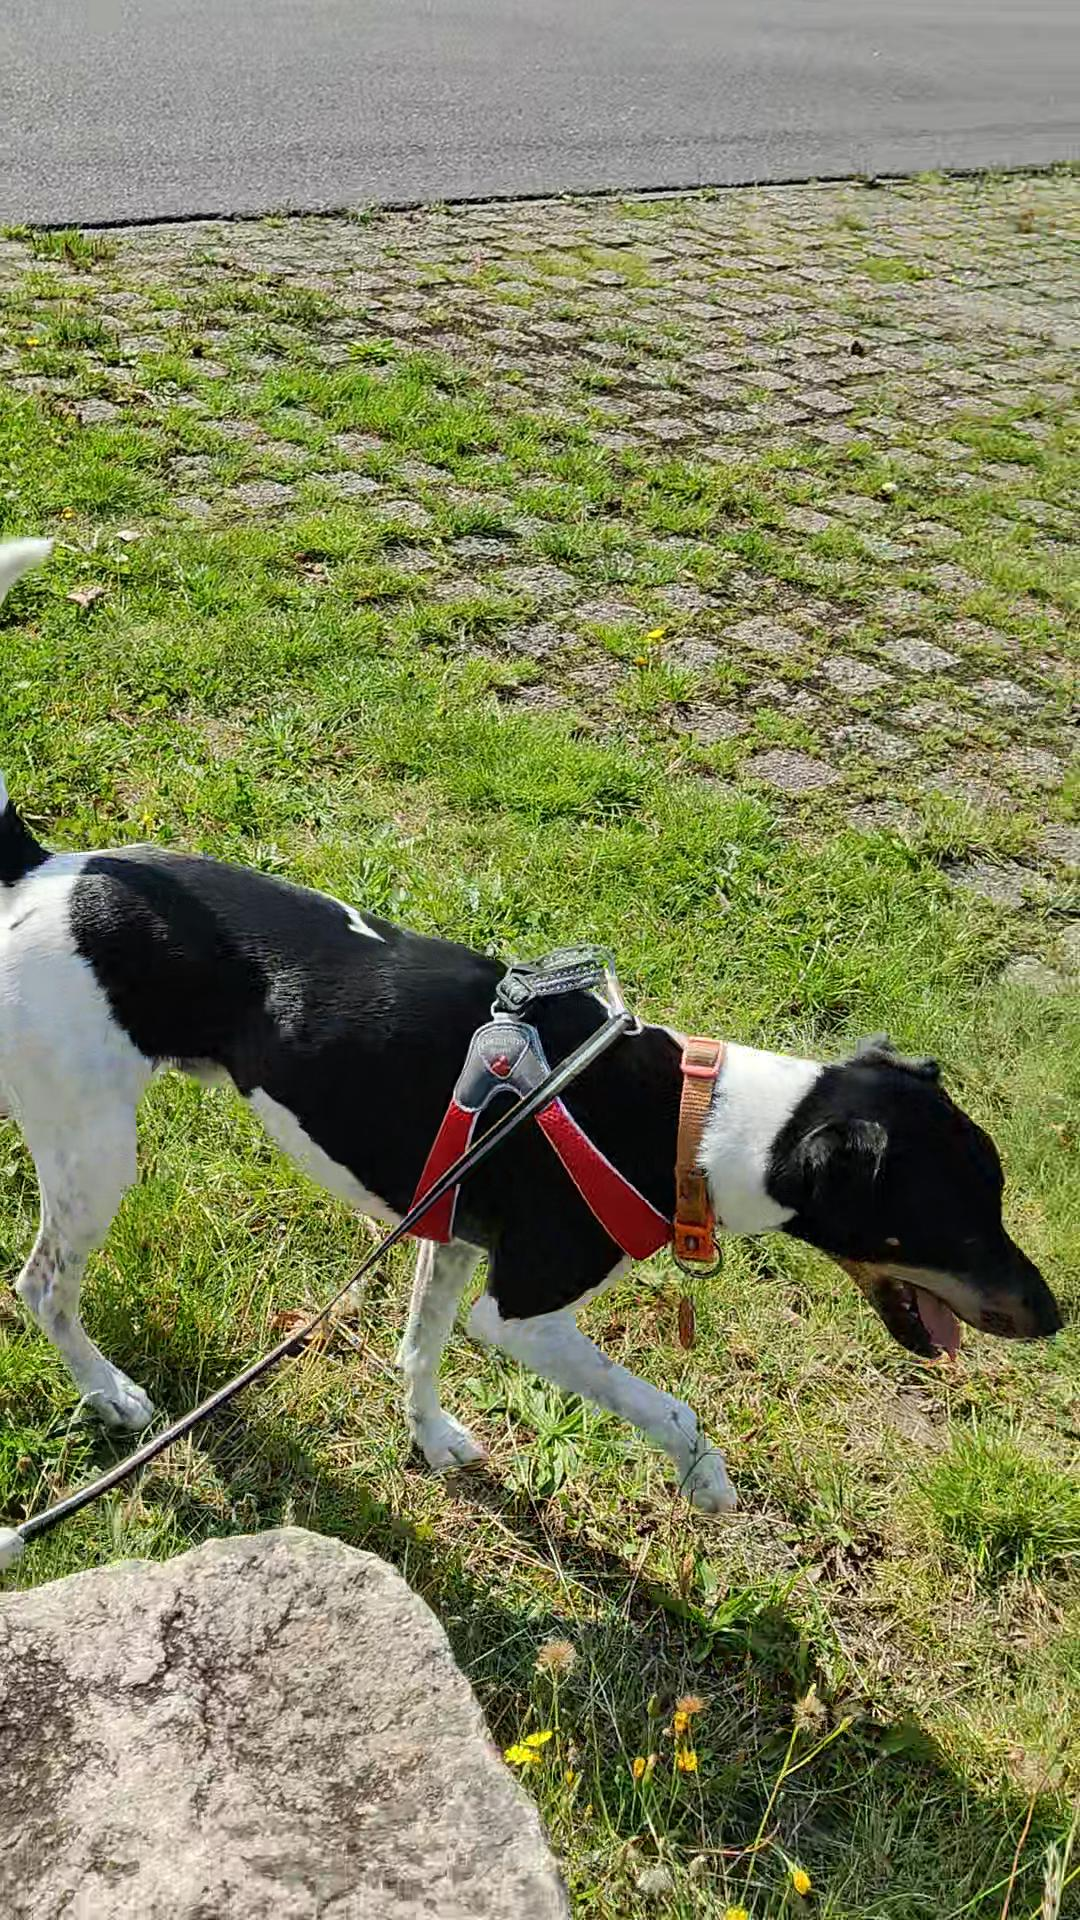Dog: (0, 527, 1069, 1519)
